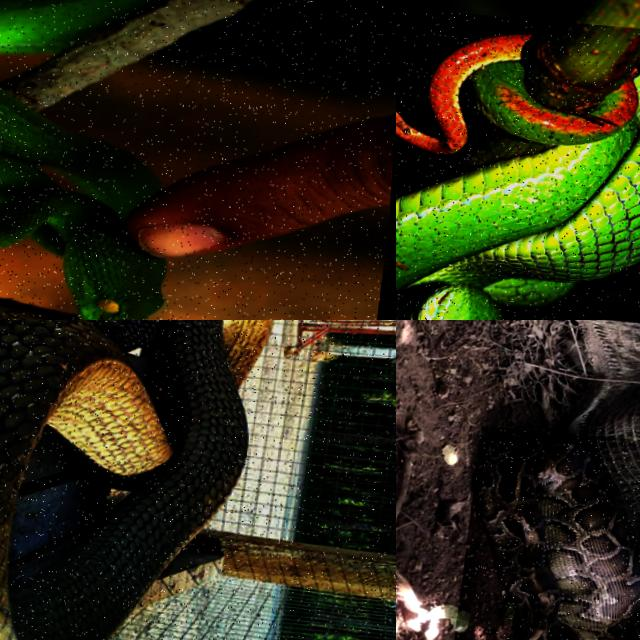Ophiophagus hannah: (0, 320, 269, 639)
Python bivittatus: (473, 429, 639, 639)
Trimeresurus: (0, 87, 165, 319)
Trimeresurus macrops: (396, 31, 639, 319)
